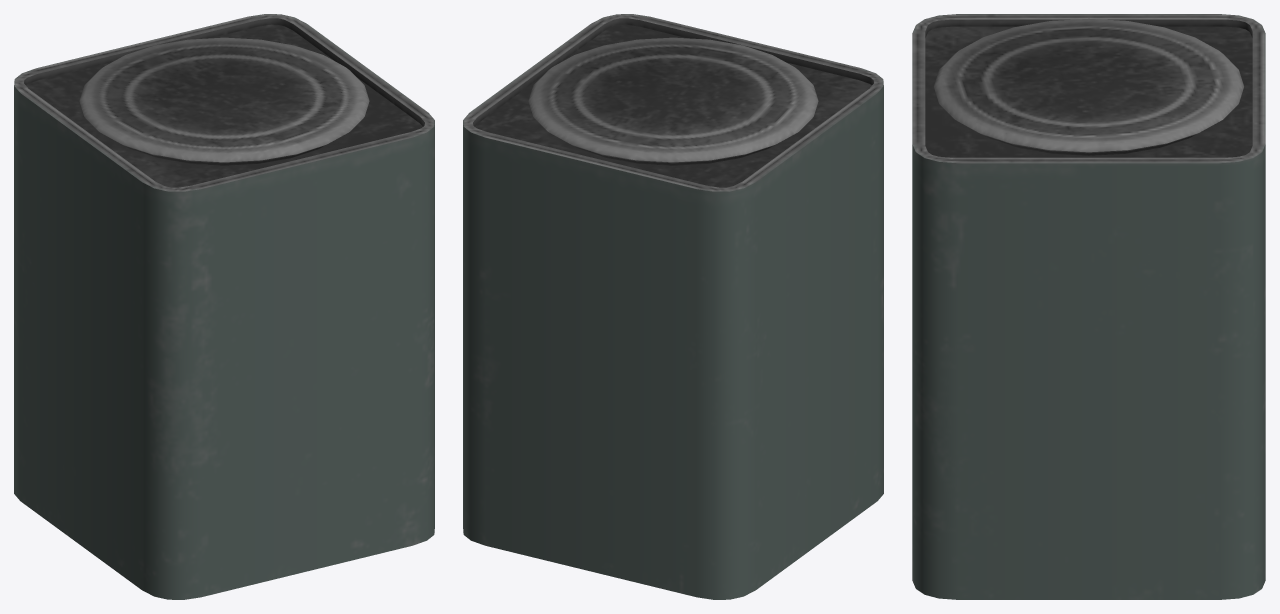
File: MetalCan_C.fbx
The picture shows the model from 3 angles, left to right: view 1: azimuth 30°, elevation 25°; view 2: azimuth 150°, elevation 25°; view 3: azimuth 270°, elevation 25°; orthographic projection. The views are drawn at different scales.
Parts seen in each view (by area): view 1: MetalCan_C_LOD0; view 2: MetalCan_C_LOD0; view 3: MetalCan_C_LOD0.
Part boxes in pixels (bbox=[...]): MetalCan_C_LOD0: bbox=[14, 14, 434, 599]; MetalCan_C_LOD0: bbox=[463, 14, 883, 599]; MetalCan_C_LOD0: bbox=[912, 14, 1265, 599].
Size of what is drawn, in the model's own units: 11 by 15.23 by 11.
